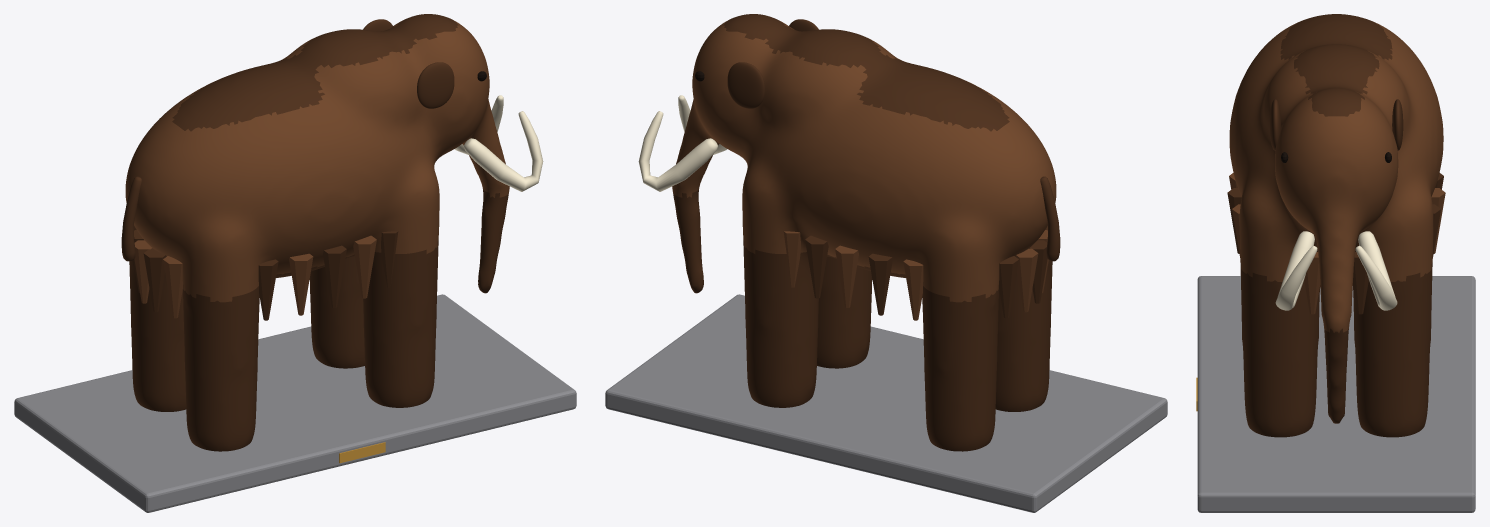
The model's file is mamut.glb.
3 views of the same model, side by side, from view 1: azimuth 30°, elevation 25°; view 2: azimuth 150°, elevation 25°; view 3: azimuth 270°, elevation 25° (orthographic). The views are drawn at different scales.
Visible parts, largest first — view 1: mamut, peana, colmillo-1, oreja-1, cola, mechon18, mechon19, mechon20, mechon13, mechon14, mechon17, mechon21 (+1 smaller); view 2: mamut, peana, colmillo1, oreja1, cola, mechon7, mechon6, mechon5, mechon12, mechon11, mechon8, mechon4 (+1 smaller); view 3: mamut, peana, colmillo1, colmillo-1, mechon24, mechon1, oreja1, oreja-1, mechon19, mechon6.
Part boxes in pixels (x1=…): mamut: x1=125, y1=14, x2=509, y2=451; peana: x1=14, y1=294, x2=576, y2=512; colmillo-1: x1=464, y1=111, x2=543, y2=191; oreja-1: x1=417, y1=62, x2=454, y2=108; cola: x1=121, y1=176, x2=141, y2=261; mechon18: x1=289, y1=253, x2=313, y2=315; mechon19: x1=323, y1=245, x2=346, y2=307; mechon20: x1=353, y1=235, x2=376, y2=298; mechon13: x1=143, y1=248, x2=166, y2=312; mechon14: x1=163, y1=256, x2=182, y2=318; mechon17: x1=258, y1=259, x2=278, y2=320; mechon21: x1=381, y1=231, x2=398, y2=287; mamut: x1=672, y1=14, x2=1056, y2=451; peana: x1=605, y1=294, x2=1167, y2=512; colmillo1: x1=638, y1=111, x2=717, y2=191; oreja1: x1=727, y1=62, x2=764, y2=108; cola: x1=1040, y1=176, x2=1060, y2=261; mechon7: x1=868, y1=253, x2=892, y2=315; mechon6: x1=835, y1=245, x2=858, y2=307; mechon5: x1=805, y1=235, x2=828, y2=298; mechon12: x1=1015, y1=248, x2=1038, y2=312; mechon11: x1=999, y1=256, x2=1018, y2=318; mechon8: x1=903, y1=259, x2=923, y2=320; mechon4: x1=783, y1=231, x2=800, y2=287; mamut: x1=1229, y1=14, x2=1443, y2=437; peana: x1=1197, y1=276, x2=1475, y2=512; colmillo1: x1=1355, y1=231, x2=1397, y2=310; colmillo-1: x1=1275, y1=231, x2=1317, y2=310; mechon24: x1=1304, y1=252, x2=1320, y2=314; mechon1: x1=1352, y1=252, x2=1368, y2=314; oreja1: x1=1392, y1=99, x2=1403, y2=150; oreja-1: x1=1270, y1=99, x2=1280, y2=150; mechon19: x1=1227, y1=188, x2=1241, y2=253; mechon6: x1=1431, y1=188, x2=1445, y2=253.
Bounding box in the file's own units: 2.85 × 2.25 × 1.51.
